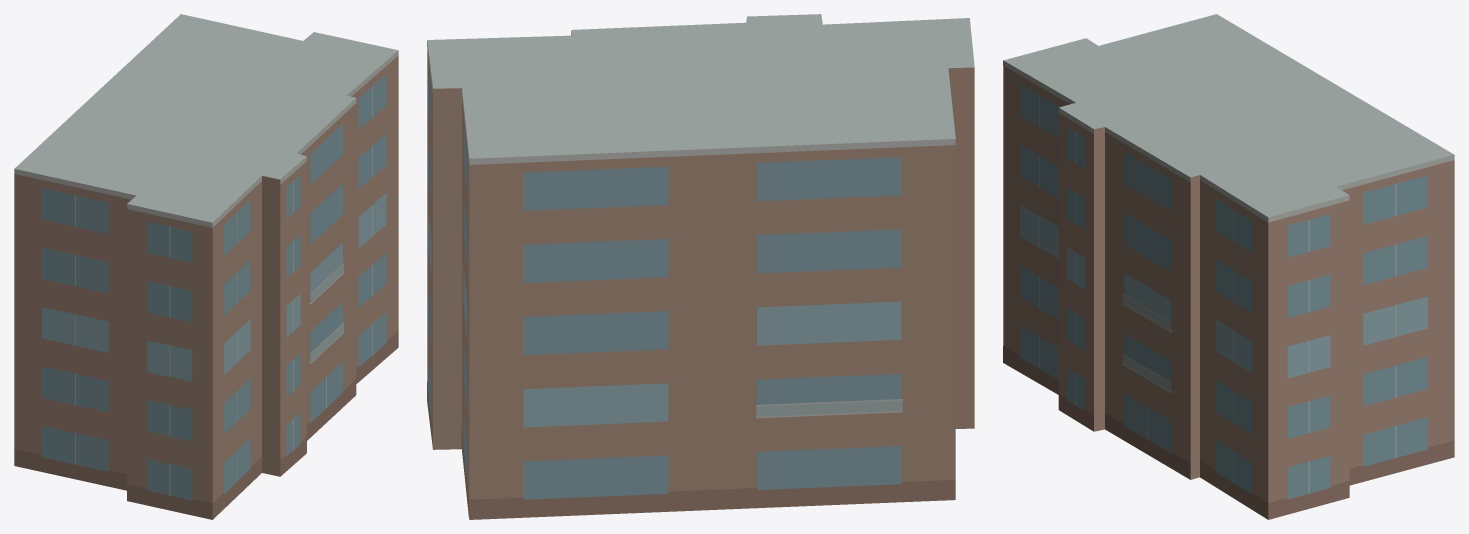
The model's file is survey-upis-32988827.glb.
The picture shows the model from 3 angles, left to right: view 1: azimuth 30°, elevation 25°; view 2: azimuth 150°, elevation 25°; view 3: azimuth 270°, elevation 25°; orthographic projection. The views are drawn at different scales.
Visible parts, largest first — view 1: survey-upis-32988827.tmp; view 2: survey-upis-32988827.tmp; view 3: survey-upis-32988827.tmp.
Part boxes in pixels (box(x1,y1,x2,y2)): survey-upis-32988827.tmp: box(14, 14, 398, 519); survey-upis-32988827.tmp: box(427, 14, 974, 519); survey-upis-32988827.tmp: box(1003, 14, 1454, 519).
Bounding box in the file's own units: 20.64 × 14.3 × 19.36.
